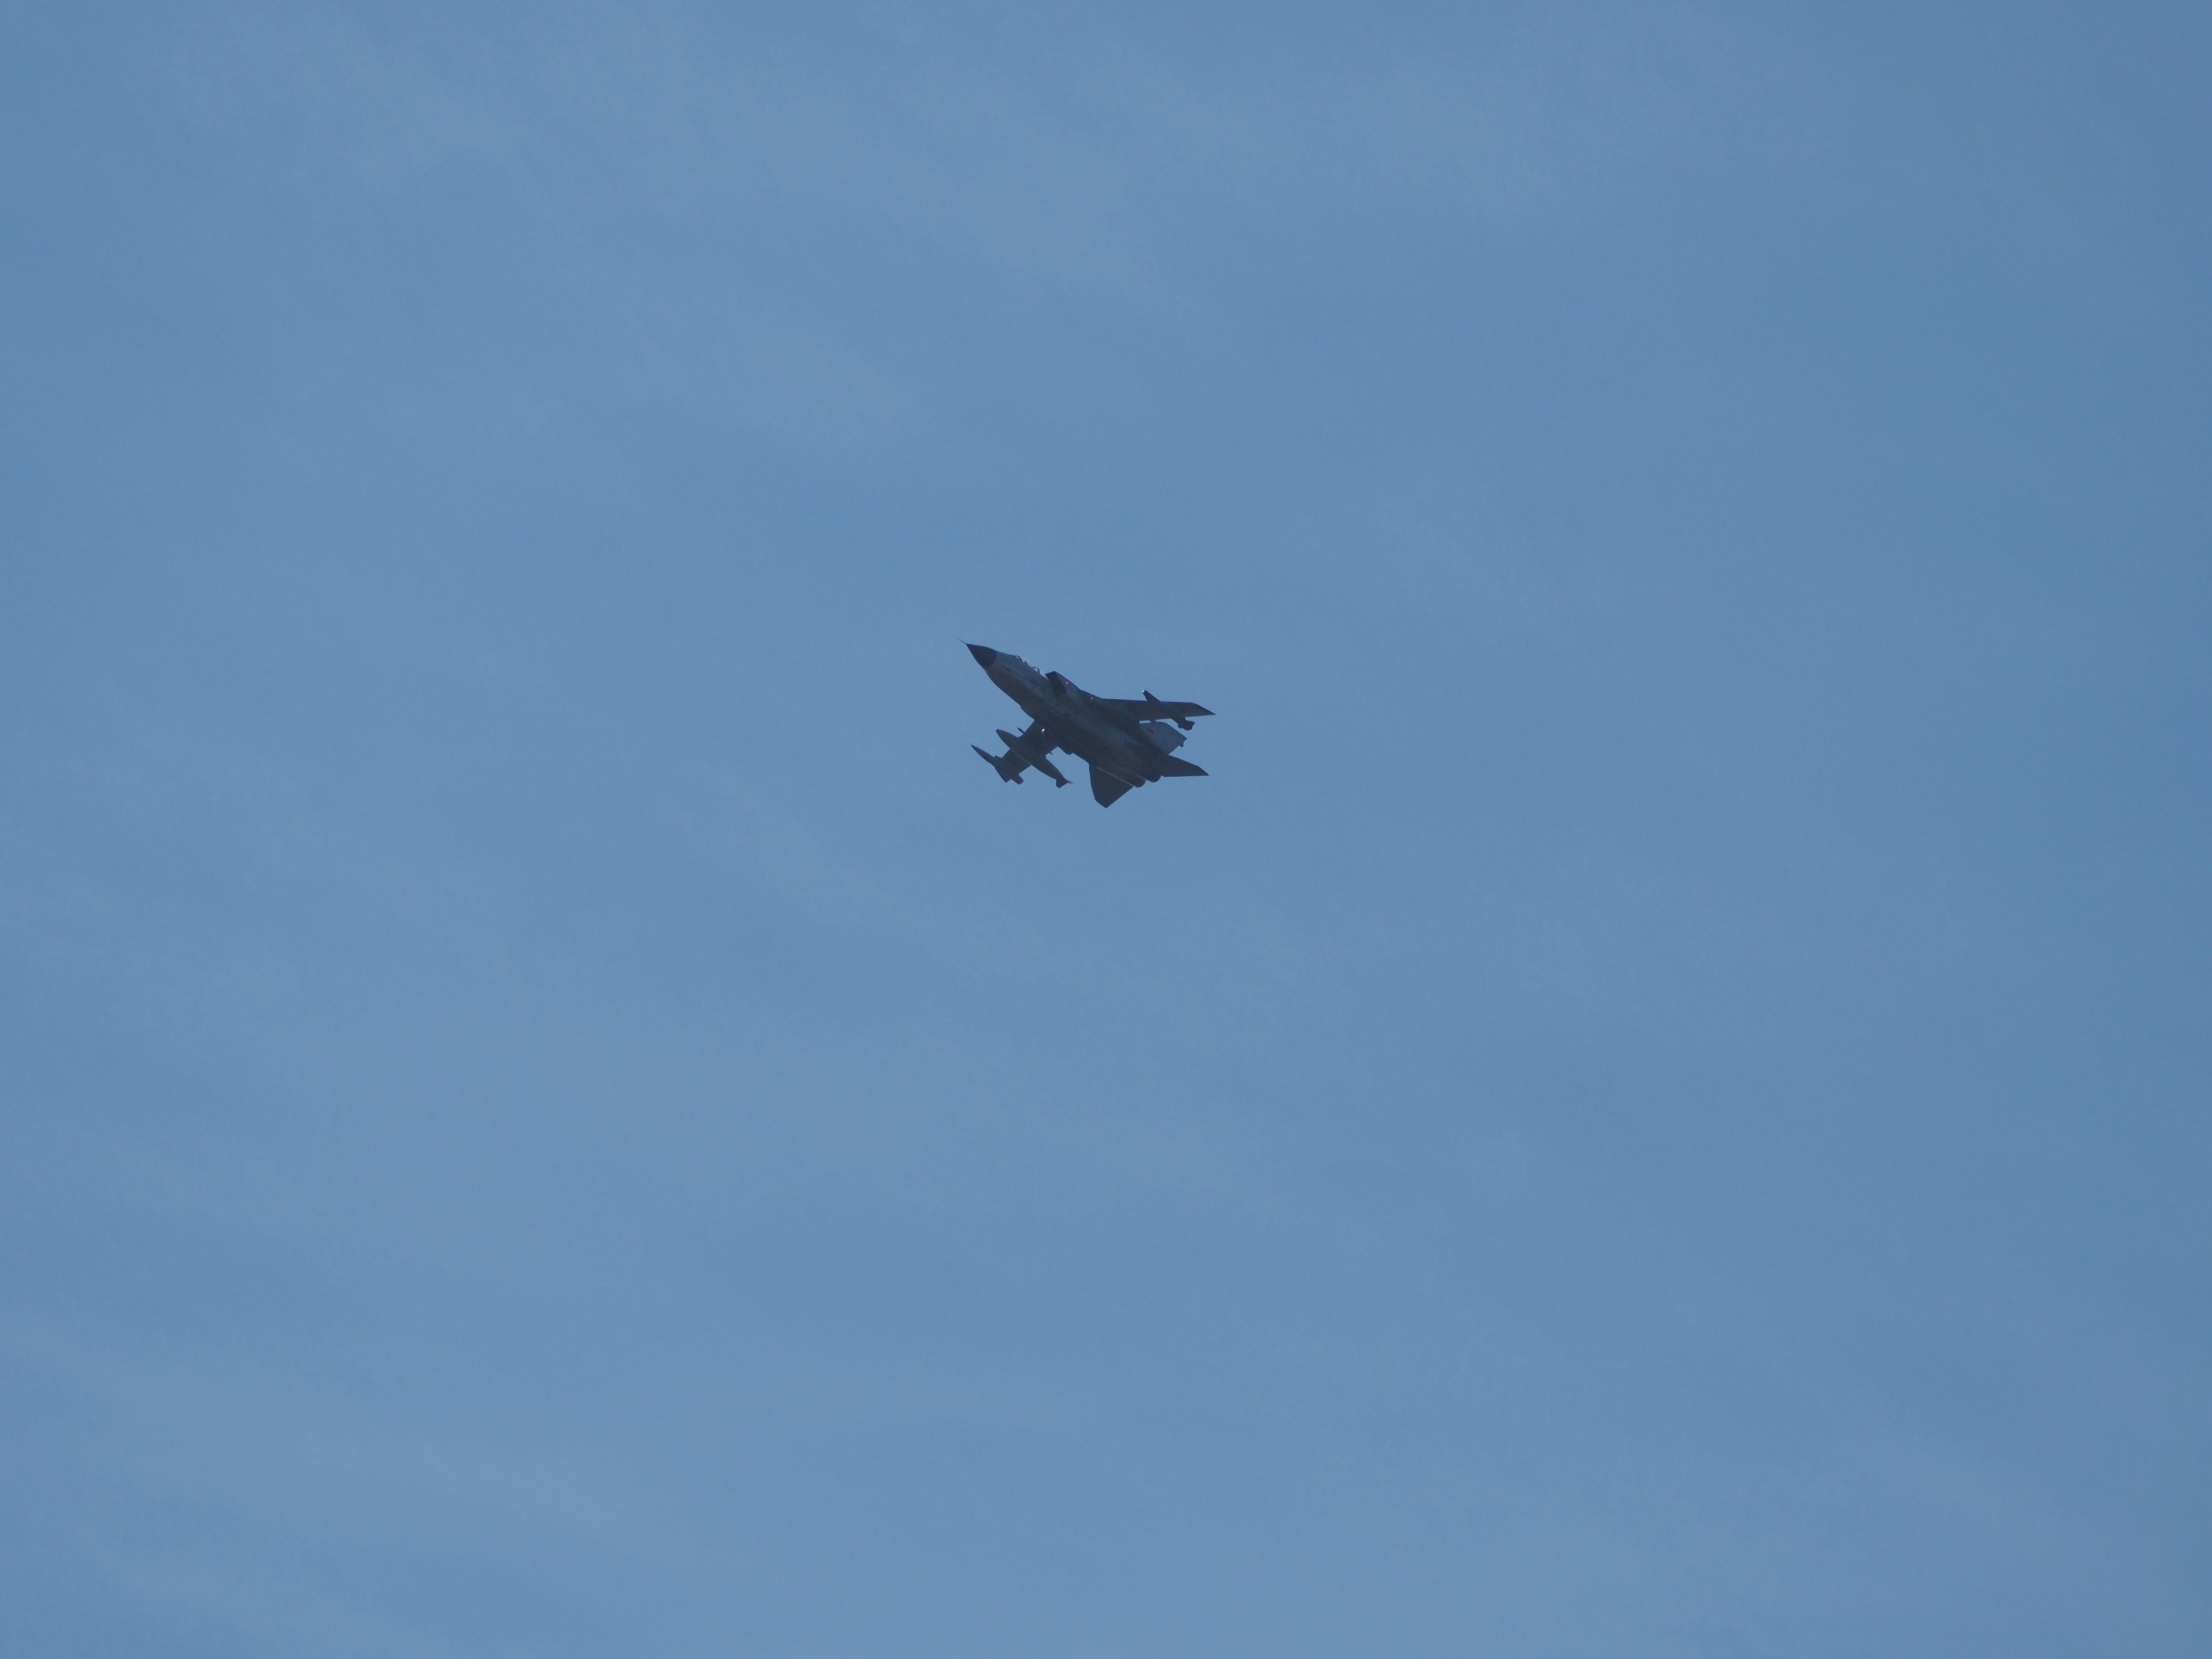Tornado: (954, 636, 1217, 810)
